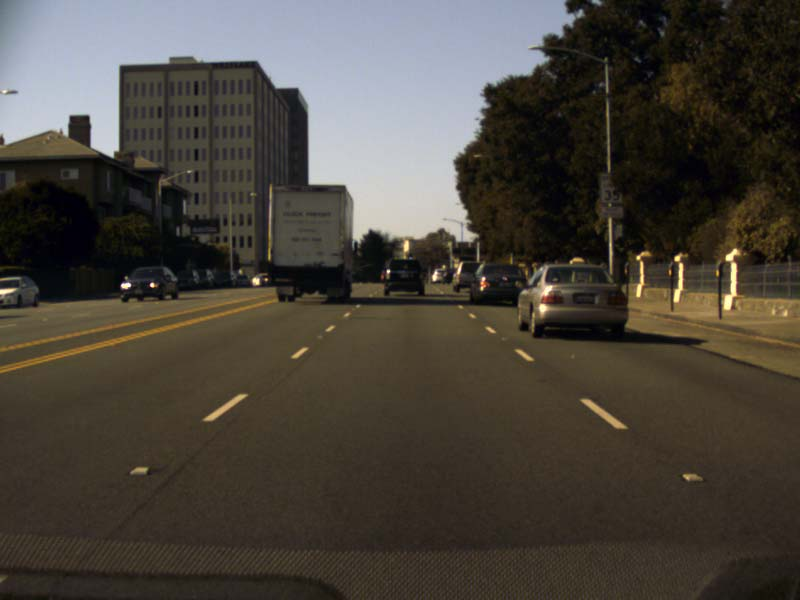Green: (408, 253, 412, 259)
